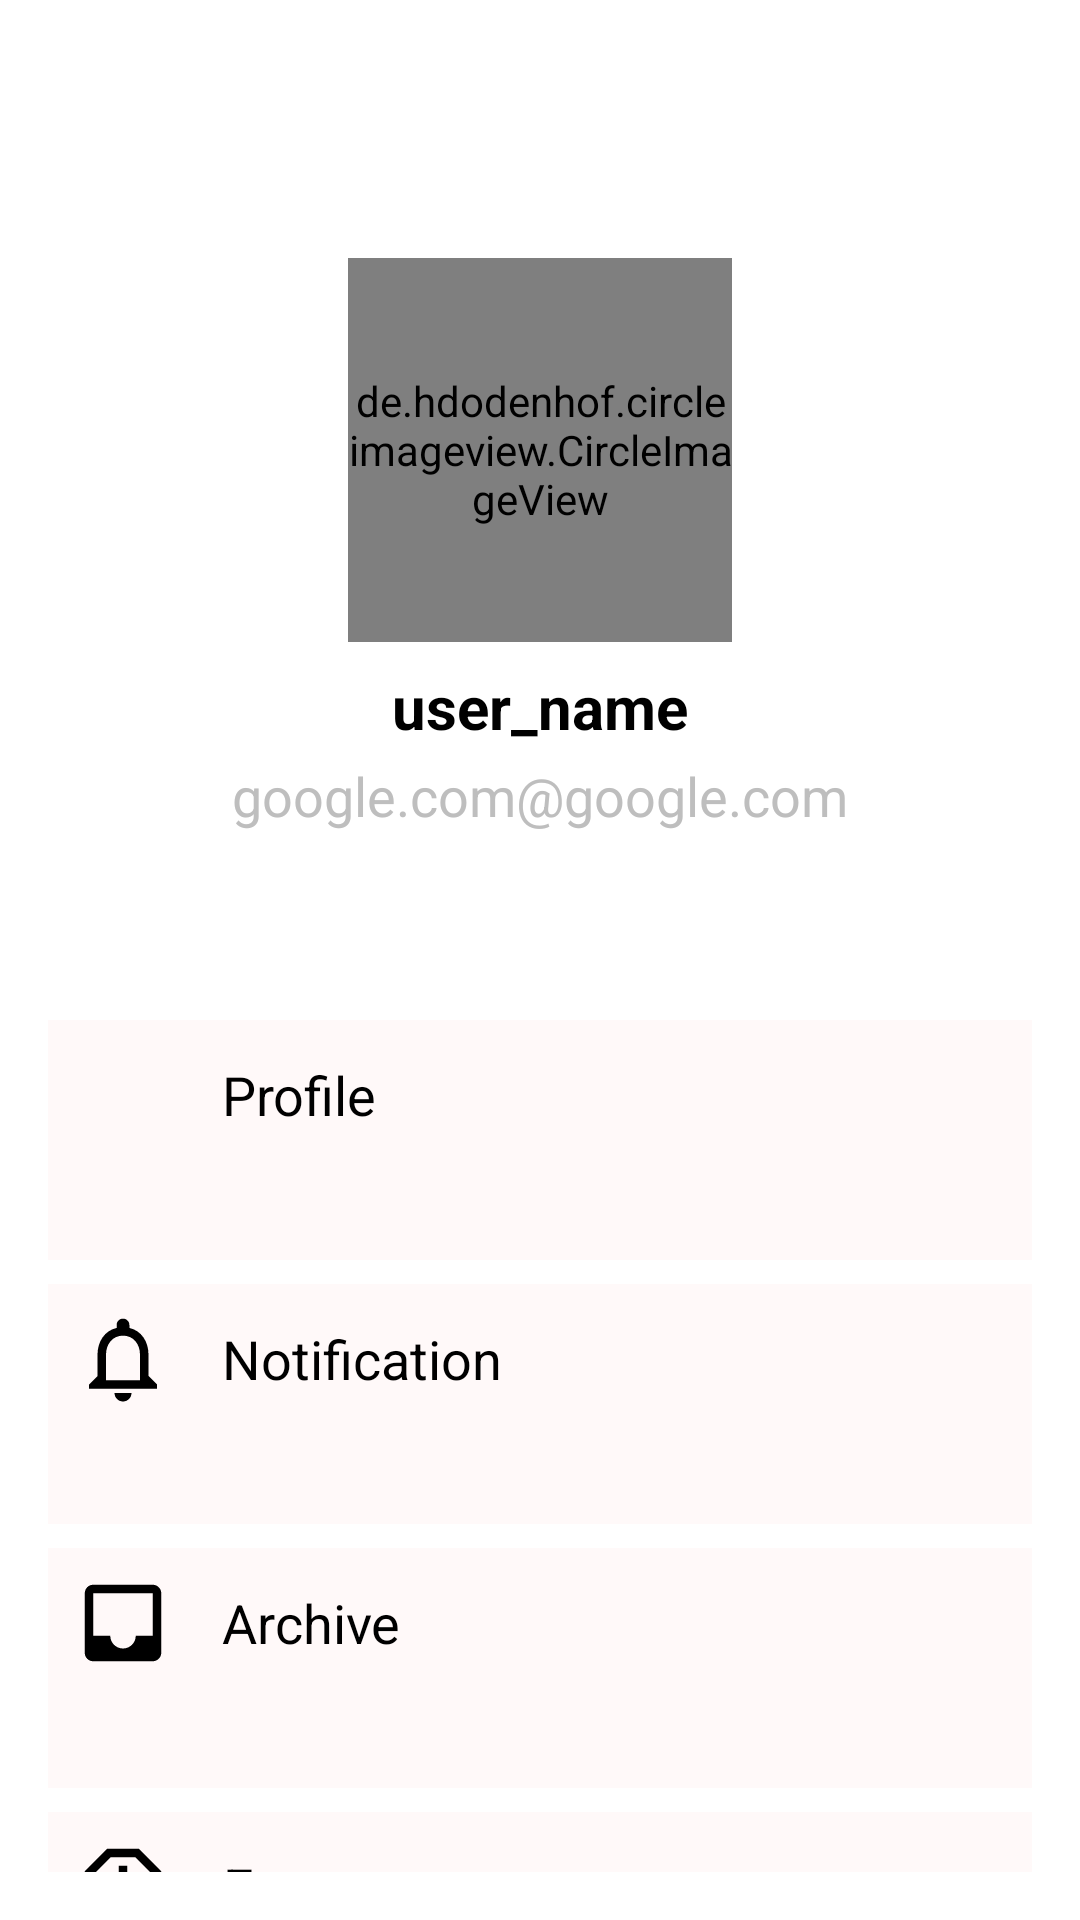

Screen size 1080px x 1920px. Icon name, then its box in pixels as (x1, y1, x2, y2):
inbox: (84, 1584, 162, 1662)
